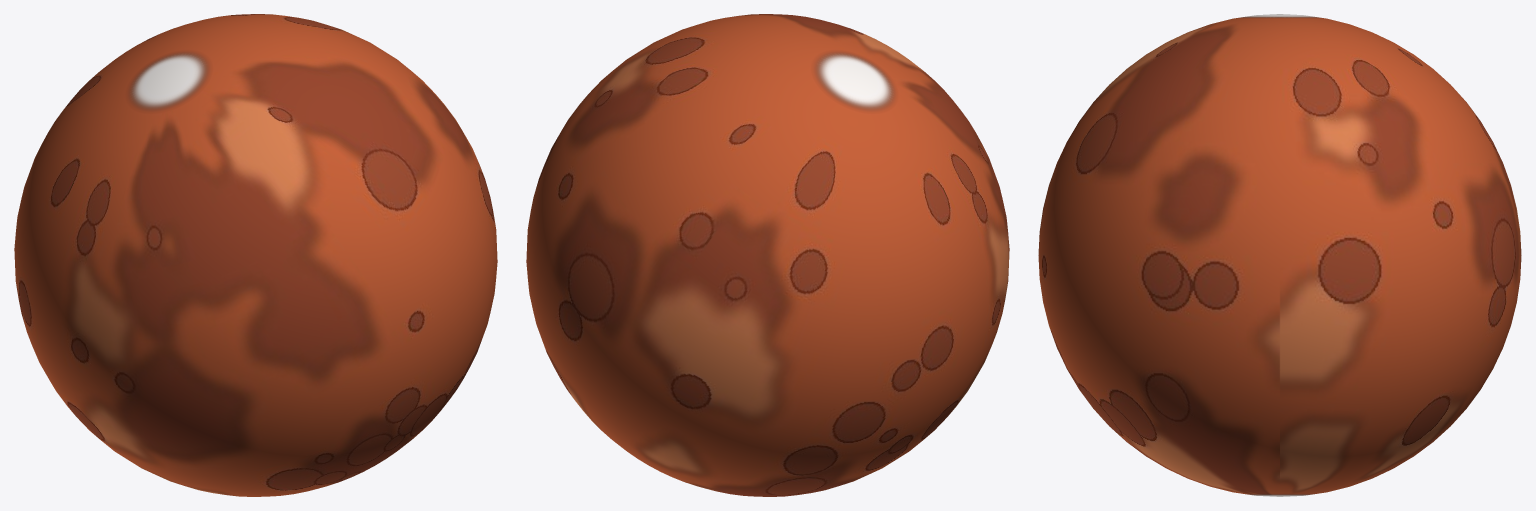
The model's file is mars.glb.
3 views of the same model, side by side, from view 1: azimuth 30°, elevation 25°; view 2: azimuth 150°, elevation 25°; view 3: azimuth 270°, elevation 25° (orthographic).
Visible parts, largest first — view 1: Planet; view 2: Planet; view 3: Planet.
Part boxes in pixels (x1,y1,x2,y2): Planet: (14,14,497,496); Planet: (526,14,1009,496); Planet: (1038,14,1521,496).
Size of the model in its own units: 0.999 by 0.999 by 1.
1 material, 1 textured.
